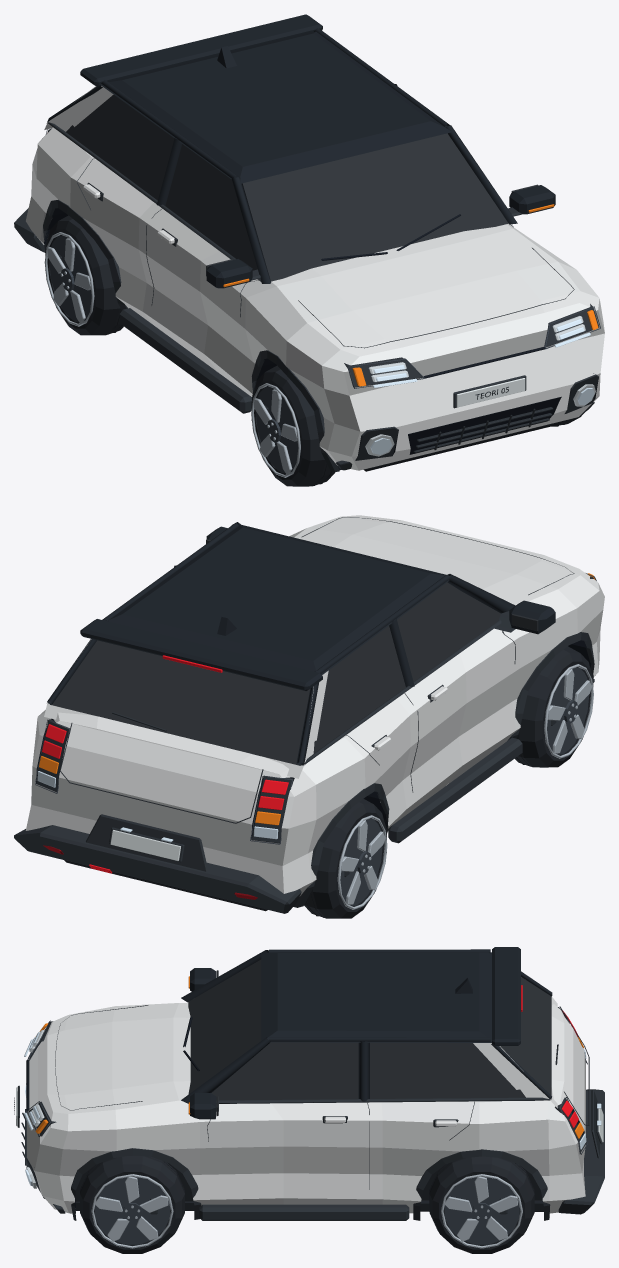
The model's file is mint-hatch.glb.
3 views of the same model, one above another, from view 1: azimuth 30°, elevation 25°; view 2: azimuth 150°, elevation 25°; view 3: azimuth 270°, elevation 25° (orthographic). The views are drawn at different scales.
Visible parts, largest first — view 1: BODY / continuous faceted shell, CABIN / glazing volume, ROOF / faceted floating cap, Rear roof spoiler, WHEEL / faceted tyre.001, WHEEL / faceted tyre, Side sill, Lower grille cavity, Recessed wheel barrel, Recessed wheel barrel.001, ARCH / fitted ten facet surround, ARCH / fitted ten facet surround.002 (+16 smaller); view 2: BODY / continuous faceted shell, CABIN / glazing volume, ROOF / faceted floating cap, Rear lower valance, Rear roof spoiler, WHEEL / faceted tyre, WHEEL / faceted tyre.001, Side sill, Rear plate recess, Recessed wheel barrel, Recessed wheel barrel.001, ARCH / fitted ten facet surround.002 (+15 smaller); view 3: BODY / continuous faceted shell, CABIN / glazing volume, ROOF / faceted floating cap, WHEEL / faceted tyre.002, WHEEL / faceted tyre.003, Side sill.001, Rear roof spoiler, Recessed wheel barrel.003, Recessed wheel barrel.002, Rear lower valance, ARCH / fitted ten facet surround.003, ARCH / fitted ten facet surround.001 (+11 smaller).
Boxes of the visible parts, bbox=[...] form: BODY / continuous faceted shell: bbox=[26, 127, 604, 470]; CABIN / glazing volume: bbox=[66, 94, 508, 281]; ROOF / faceted floating cap: bbox=[101, 31, 451, 183]; Rear roof spoiler: bbox=[80, 14, 322, 86]; WHEEL / faceted tyre.001: bbox=[45, 215, 123, 335]; WHEEL / faceted tyre: bbox=[251, 365, 334, 486]; Side sill: bbox=[119, 308, 251, 413]; Lower grille cavity: bbox=[408, 396, 561, 454]; Recessed wheel barrel: bbox=[255, 386, 298, 473]; Recessed wheel barrel.001: bbox=[49, 235, 91, 322]; ARCH / fitted ten facet surround: bbox=[251, 350, 339, 472]; ARCH / fitted ten facet surround.002: bbox=[43, 199, 127, 310]; BODY / continuous faceted shell: bbox=[25, 515, 604, 896]; CABIN / glazing volume: bbox=[51, 582, 500, 765]; ROOF / faceted floating cap: bbox=[105, 524, 450, 674]; Rear lower valance: bbox=[14, 825, 301, 913]; Rear roof spoiler: bbox=[80, 619, 322, 690]; WHEEL / faceted tyre: bbox=[514, 646, 593, 767]; WHEEL / faceted tyre.001: bbox=[304, 799, 386, 918]; Side sill: bbox=[388, 737, 522, 843]; Rear plate recess: bbox=[86, 814, 208, 871]; Recessed wheel barrel: bbox=[547, 667, 589, 754]; Recessed wheel barrel.001: bbox=[340, 819, 382, 905]; ARCH / fitted ten facet surround.002: bbox=[293, 783, 389, 907]; BODY / continuous faceted shell: bbox=[27, 1003, 585, 1213]; CABIN / glazing volume: bbox=[188, 959, 551, 1100]; ROOF / faceted floating cap: bbox=[261, 952, 491, 1042]; WHEEL / faceted tyre.002: bbox=[80, 1155, 184, 1253]; WHEEL / faceted tyre.003: bbox=[429, 1156, 534, 1253]; Side sill.001: bbox=[199, 1204, 409, 1220]; Rear roof spoiler: bbox=[492, 947, 520, 1045]; Recessed wheel barrel.003: bbox=[444, 1176, 519, 1244]; Recessed wheel barrel.002: bbox=[95, 1176, 169, 1244]; Rear lower valance: bbox=[558, 1089, 604, 1214]; ARCH / fitted ten facet surround.003: bbox=[413, 1149, 550, 1220]; ARCH / fitted ten facet surround.001: bbox=[71, 1148, 201, 1220].
Bounding box in the file's own units: 2.31 × 1.68 × 4.11.
